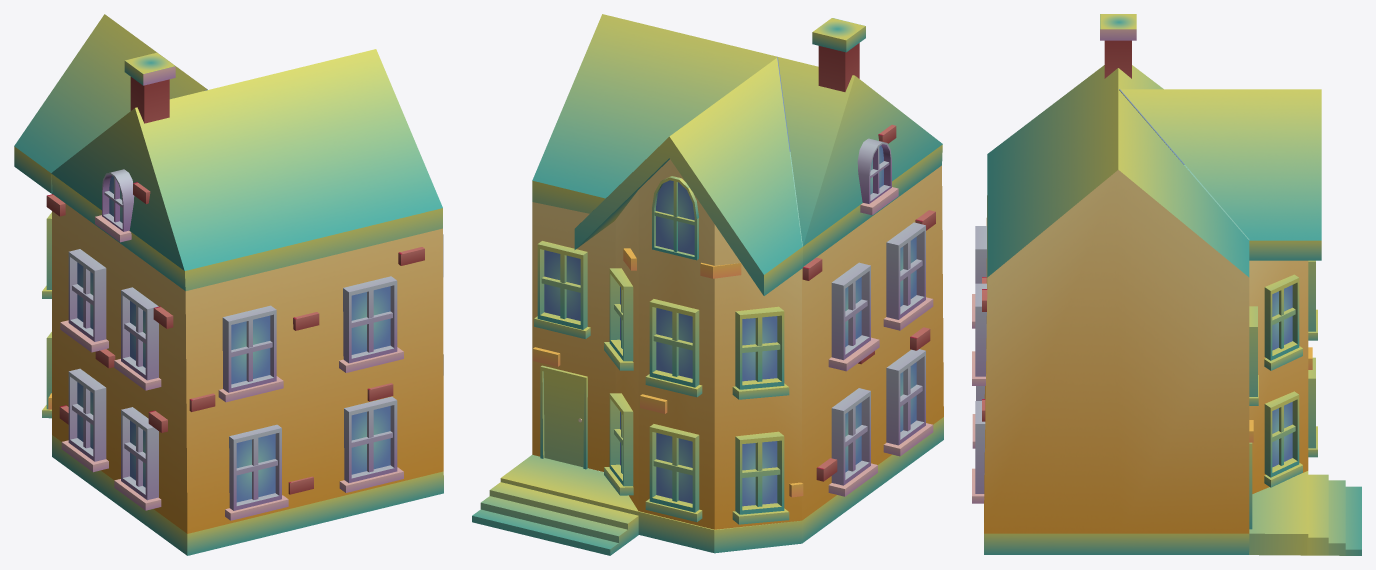
File: SM_House_R_Short_03.fbx
3 views of the same model, side by side, from view 1: azimuth 30°, elevation 25°; view 2: azimuth 150°, elevation 25°; view 3: azimuth 270°, elevation 25° (orthographic). The views are drawn at different scales.
Visible parts, largest first — view 1: SM_House_R_Short_03; view 2: SM_House_R_Short_03; view 3: SM_House_R_Short_03.
Part boxes in pixels (box(x1,y1,x2,y2)): SM_House_R_Short_03: box(14, 14, 443, 555); SM_House_R_Short_03: box(472, 14, 943, 555); SM_House_R_Short_03: box(972, 14, 1361, 555).
Bounding box in the file's own units: 7.25 × 9.1 × 10.98.
